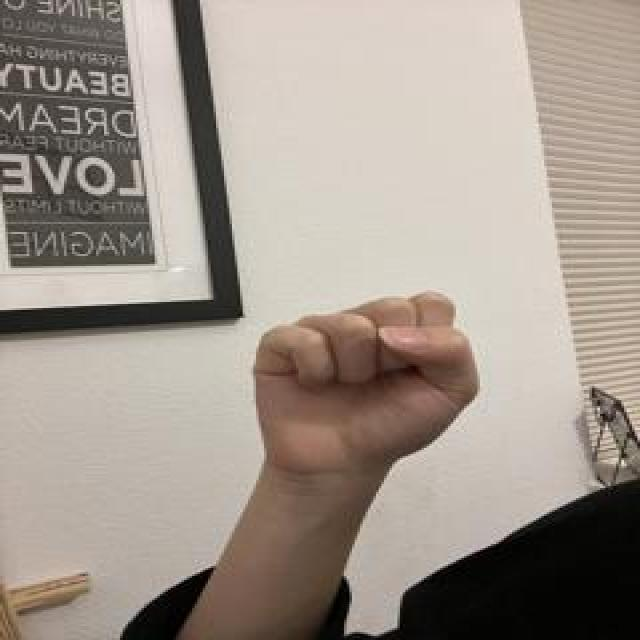S: (245, 287, 488, 481)
